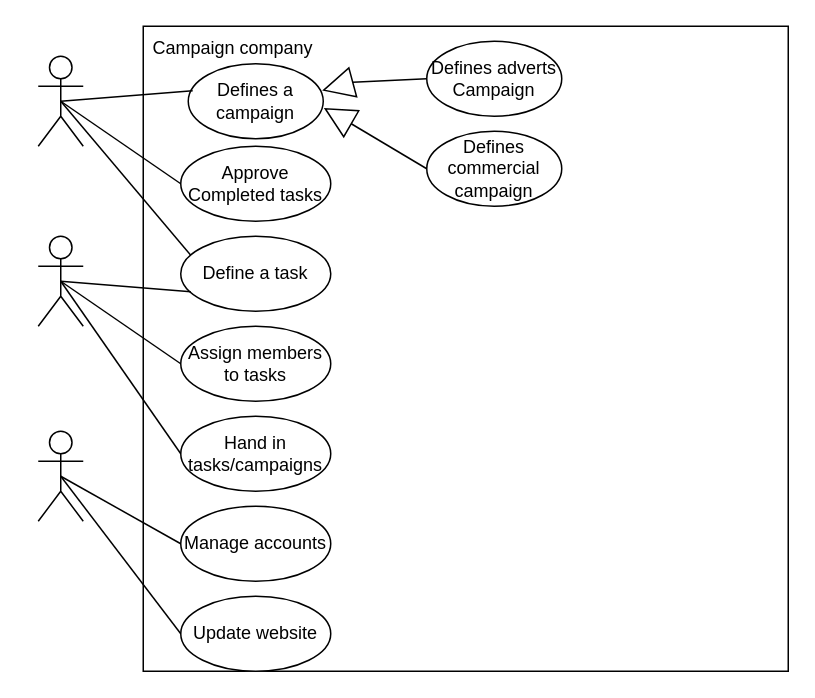
The diagram is 815 pixels wide and 698 high, and some of its shapes have lost their labels. The shapes that lost their labels are listed below. From the top down, each one's centre as x and y in pixels, then its label:
the point at 60,100: Client
the point at 60,280: Manager
the point at 60,475: Admin
